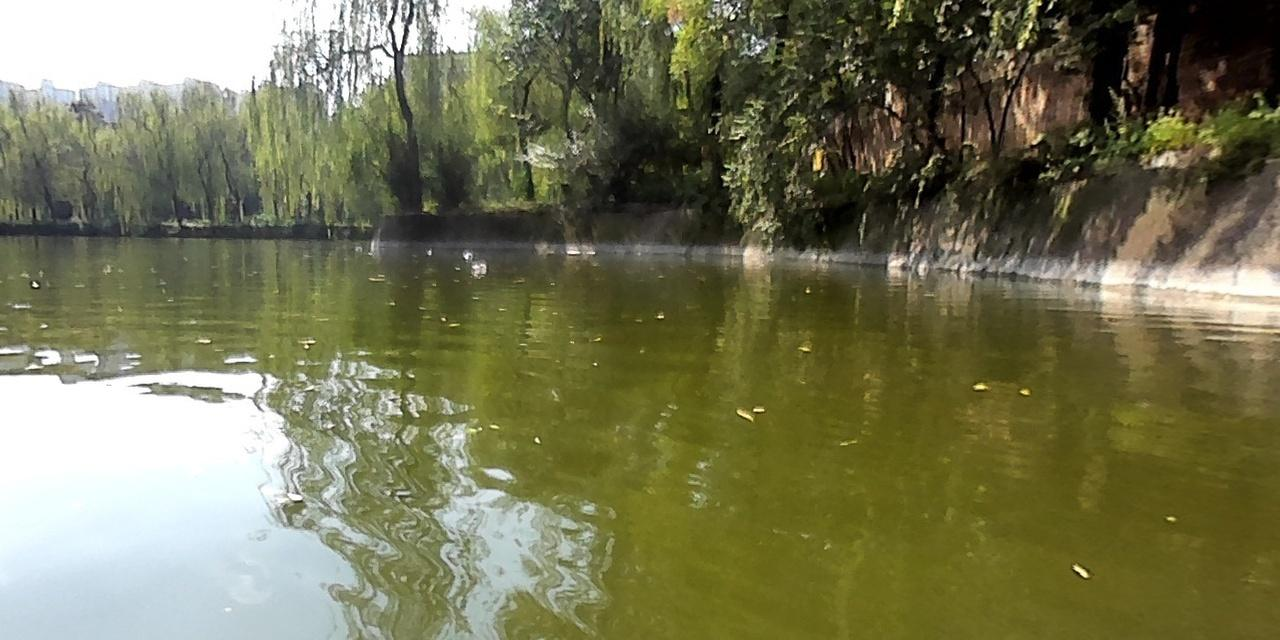bottle: (467, 260, 489, 272), (462, 250, 473, 259)
